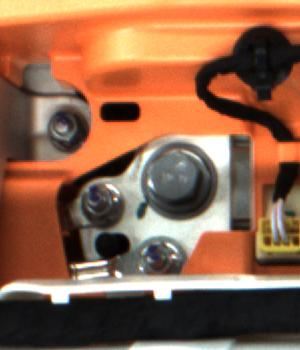nut_b: (137, 145, 217, 219)
screw_s: (81, 181, 126, 223), (140, 237, 179, 275), (46, 113, 88, 147)
